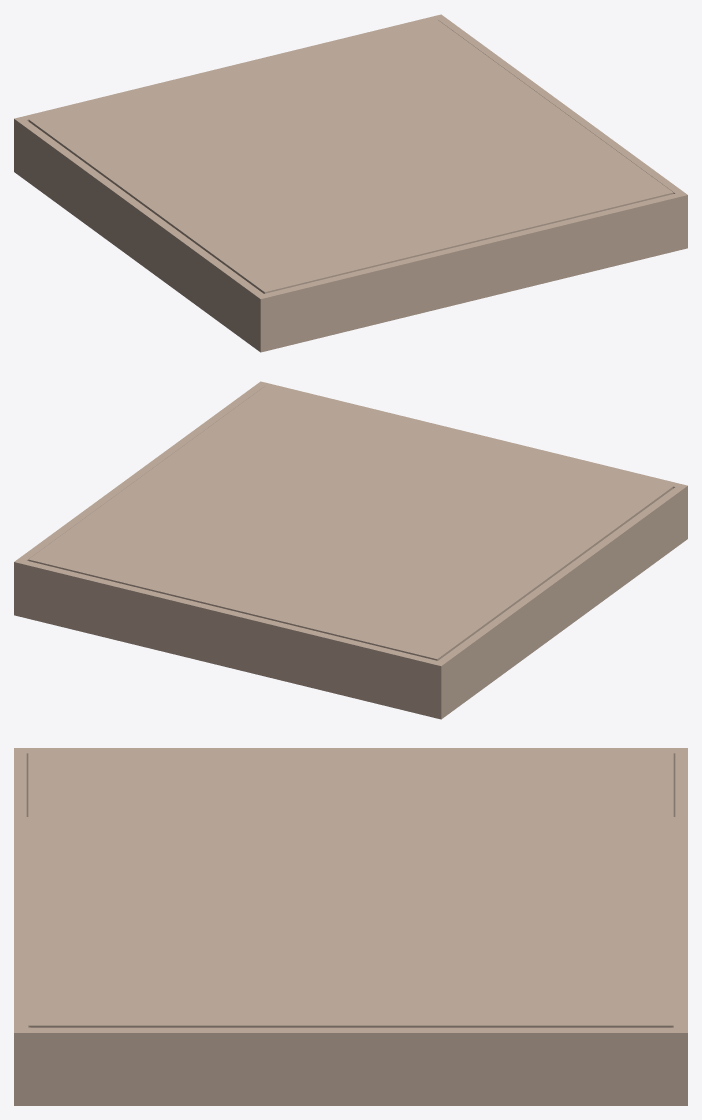
Rendered from Pizza.fbx.
The picture shows the model from 3 angles, top to bottom: view 1: azimuth 30°, elevation 25°; view 2: azimuth 150°, elevation 25°; view 3: azimuth 270°, elevation 25°; orthographic projection. The views are drawn at different scales.
Visible parts, largest first — view 1: CartonPizzaTop, CartonPizza; view 2: CartonPizzaTop, CartonPizza; view 3: CartonPizzaTop, CartonPizza.
Boxes of the visible parts, x1,y1,x2,y2 form: CartonPizzaTop: [28, 19, 673, 293]; CartonPizza: [14, 14, 687, 352]; CartonPizzaTop: [28, 386, 673, 660]; CartonPizza: [14, 381, 687, 719]; CartonPizzaTop: [28, 753, 673, 1027]; CartonPizza: [14, 748, 687, 1105].
Size of the model in its own units: 22.22 by 2.69 by 22.22.
